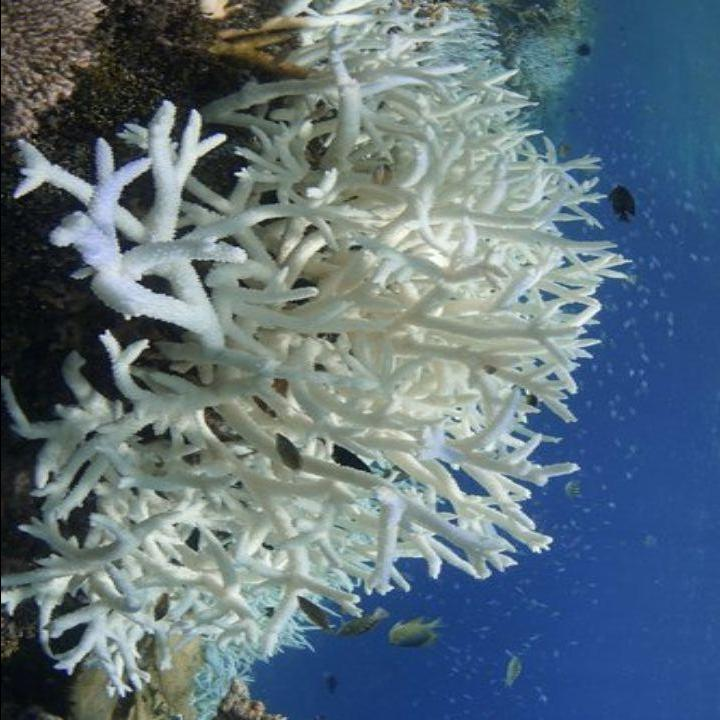Bleached disease: (52, 13, 602, 668)
